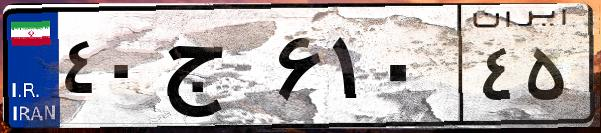0: (385, 28, 445, 110), (110, 28, 158, 98)
1: (330, 28, 385, 110)
4: (57, 26, 110, 100), (475, 38, 525, 113)
5: (525, 38, 570, 115)
6: (270, 28, 330, 110)
ج: (158, 20, 270, 120)
